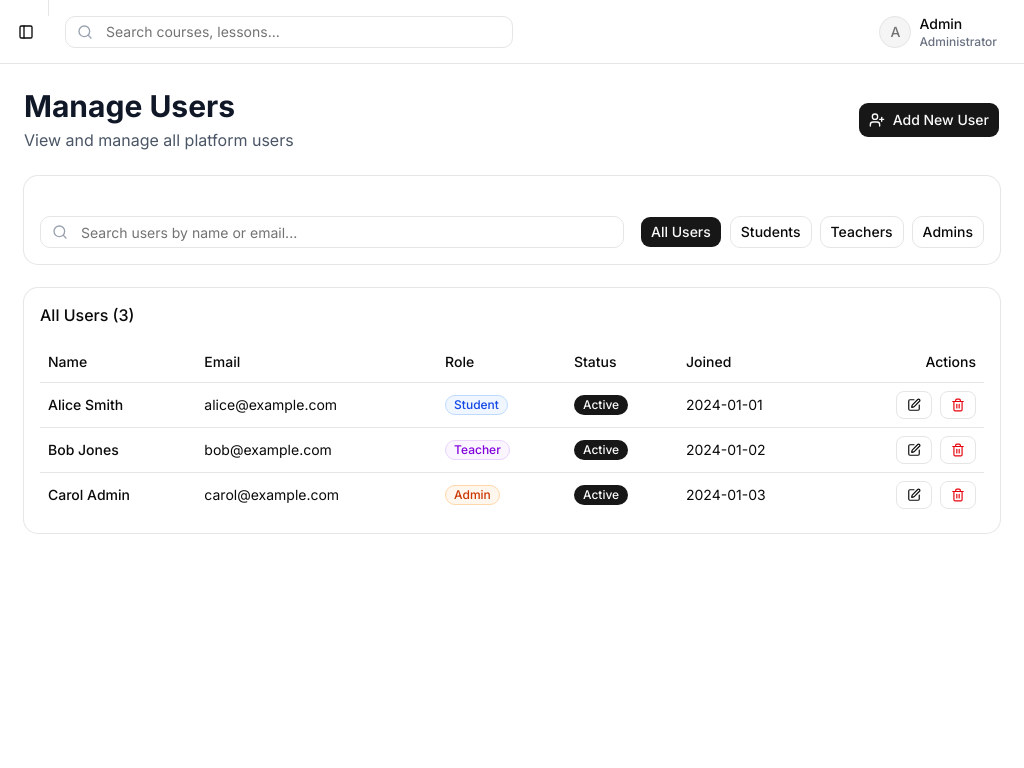
Scenario: Admin Users Page - Delete (2.6, 2.7) › shows error when delete fails
Expected: the text "Alice Smith" is shown, top-left (40, 382), bottom-right (196, 427)
Step 1. Click the button named "delete alice smith" → (958, 404), box top-left (940, 390), bottom-right (976, 418)
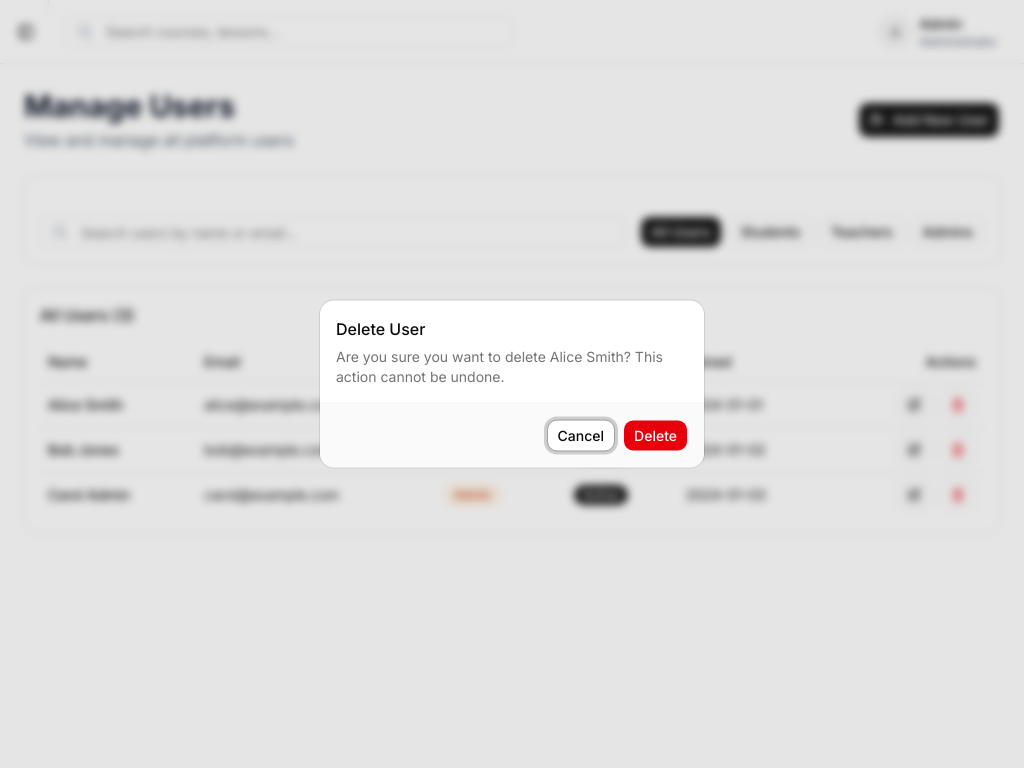
Step 2. Click the button "Delete" → (656, 436), box top-left (623, 420), bottom-right (688, 452)
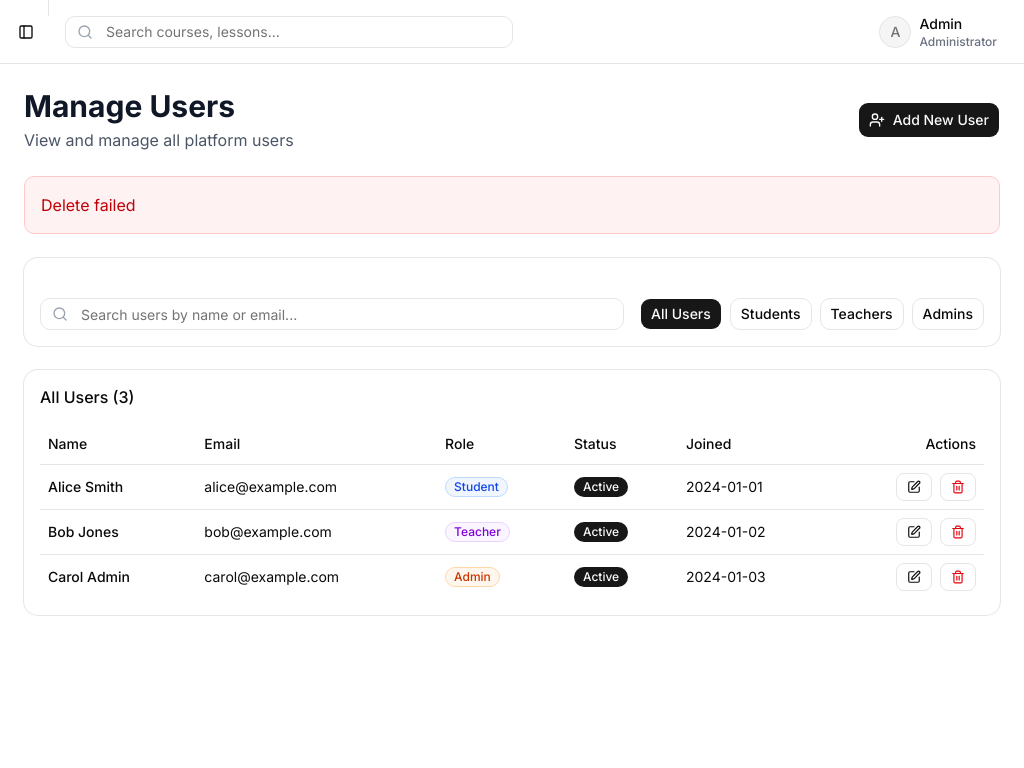
Expected: the text "Alice Smith" is shown, top-left (40, 464), bottom-right (196, 509)
Expected: the text "Delete failed" is shown, top-left (24, 176), bottom-right (1000, 234)
